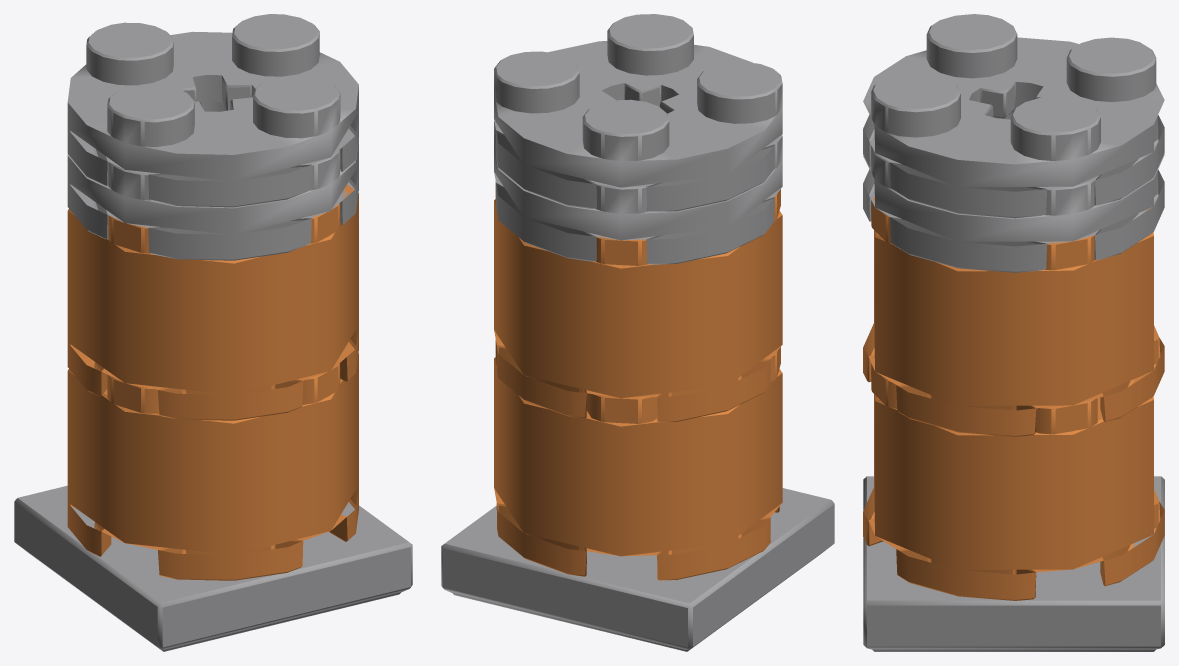
Rendered from SpinningLightA.fbx.
The picture shows the model from 3 angles, left to right: view 1: azimuth 30°, elevation 25°; view 2: azimuth 150°, elevation 25°; view 3: azimuth 270°, elevation 25°; orthographic projection. The views are drawn at different scales.
Parts seen in each view (by area): view 1: 00002_6143.dat, 00001_87580.dat; view 2: 00002_6143.dat, 00001_87580.dat; view 3: 00002_6143.dat, 00001_87580.dat.
Boxes of the visible parts, left/top/right/bottom form: 00002_6143.dat: left=67, top=14, right=358, bottom=580; 00001_87580.dat: left=14, top=485, right=412, bottom=651; 00002_6143.dat: left=494, top=14, right=782, bottom=580; 00001_87580.dat: left=441, top=488, right=834, bottom=651; 00002_6143.dat: left=863, top=14, right=1164, bottom=600; 00001_87580.dat: left=863, top=476, right=1164, bottom=651.
Size of the model in its own units: 40.04 by 76 by 40.02.
